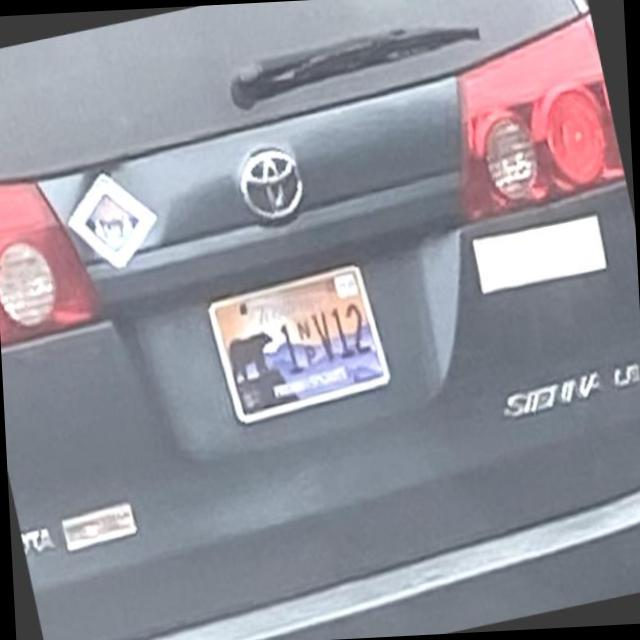LicensePlate: (205, 260, 394, 428)
